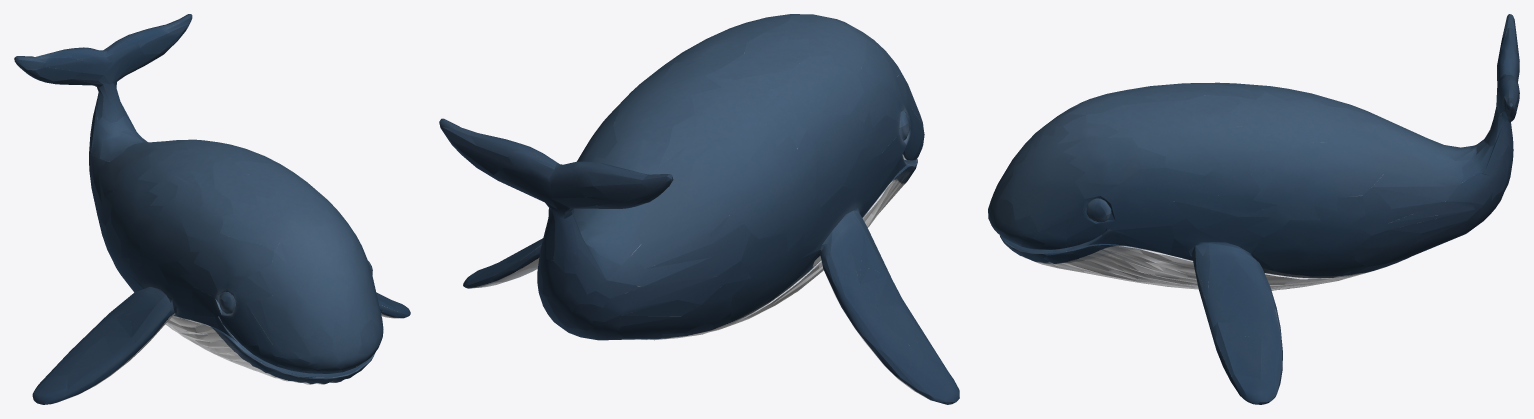
File: whale.glb
3 views of the same model, side by side, from view 1: azimuth 30°, elevation 25°; view 2: azimuth 150°, elevation 25°; view 3: azimuth 270°, elevation 25° (orthographic). The views are drawn at different scales.
Size of the model in its own units: 1.63 by 0.9891 by 1.9.
Materials: 1 (1 with a texture image).
